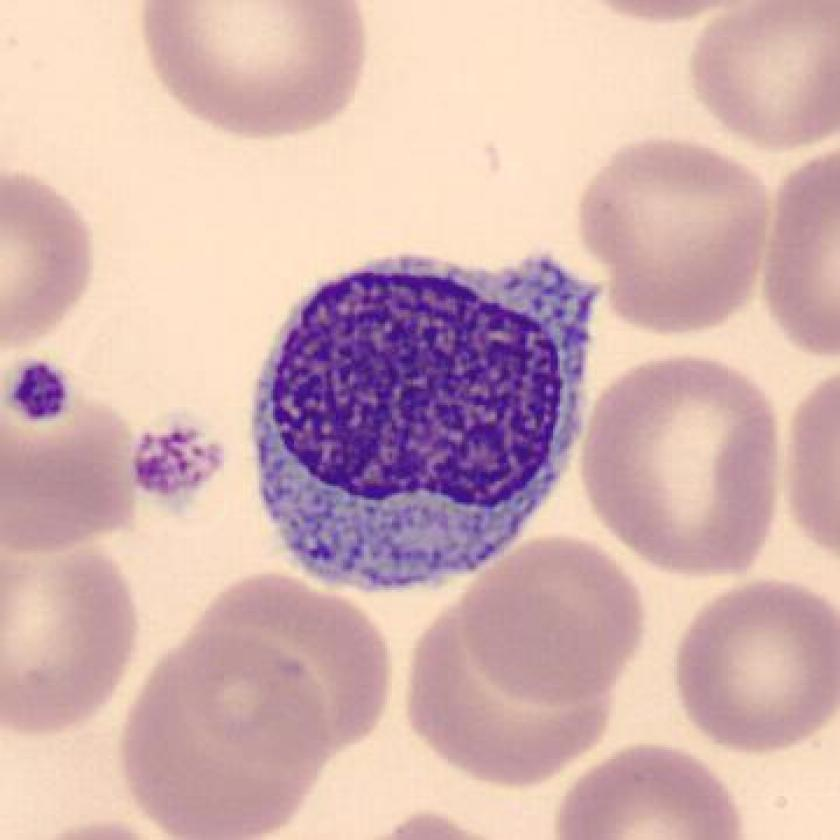monocyte: (237, 240, 622, 610)
